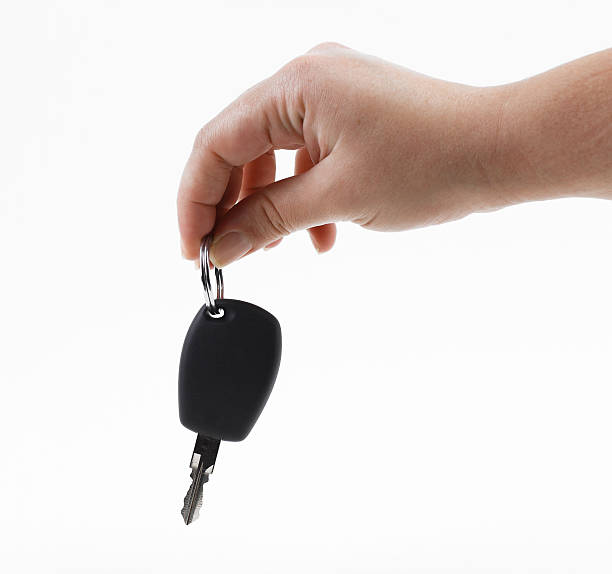key: (176, 299, 282, 527)
